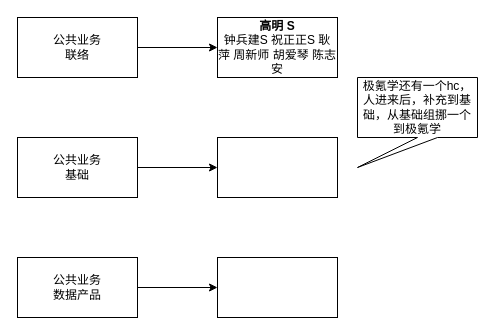
Some shapes in this 495 by 335 pixel diagram are drawn without their labels. The centre of each missing label's shape, as x and y in pixels:
"待招 S 赵净涛S 熊益杰，谷永超" goes at [277,287].
"高静阳 S 倪森森S 林毓峰S 秦梓峰 张晓炎" goes at [277,167].
